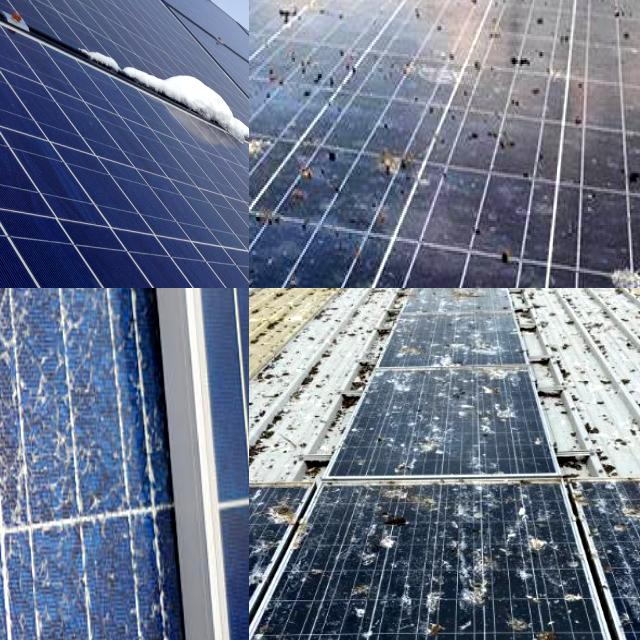bird: (455, 0, 565, 119), (436, 564, 580, 640), (362, 80, 424, 228), (408, 484, 539, 548), (265, 0, 357, 81), (402, 402, 516, 459), (249, 106, 316, 202), (489, 204, 551, 288), (249, 488, 314, 560), (249, 513, 281, 620), (601, 499, 640, 582), (588, 232, 640, 288), (462, 120, 532, 156), (606, 0, 640, 57), (249, 201, 284, 242)
hotspot: (0, 288, 73, 372), (0, 403, 56, 502)
panel: (61, 4, 169, 98), (173, 45, 249, 164)
